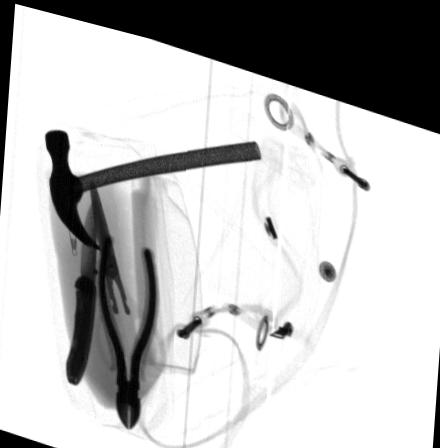Hammer: (45, 126, 263, 243)
Knife: (64, 189, 97, 381)
Pliers: (98, 225, 161, 423)
Scissors: (88, 173, 168, 372)
